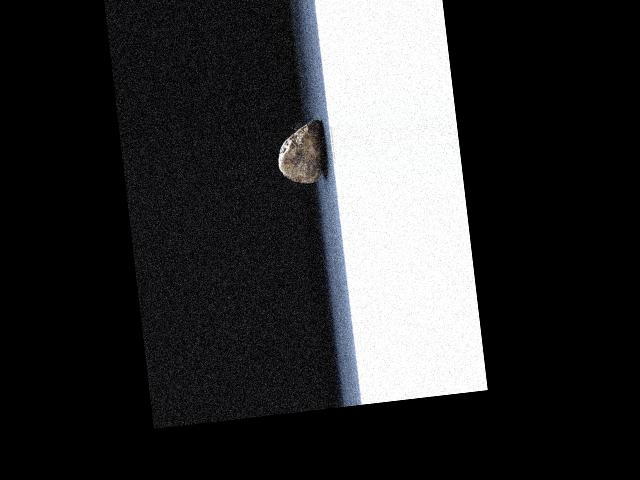beet: (274, 120, 327, 187)
